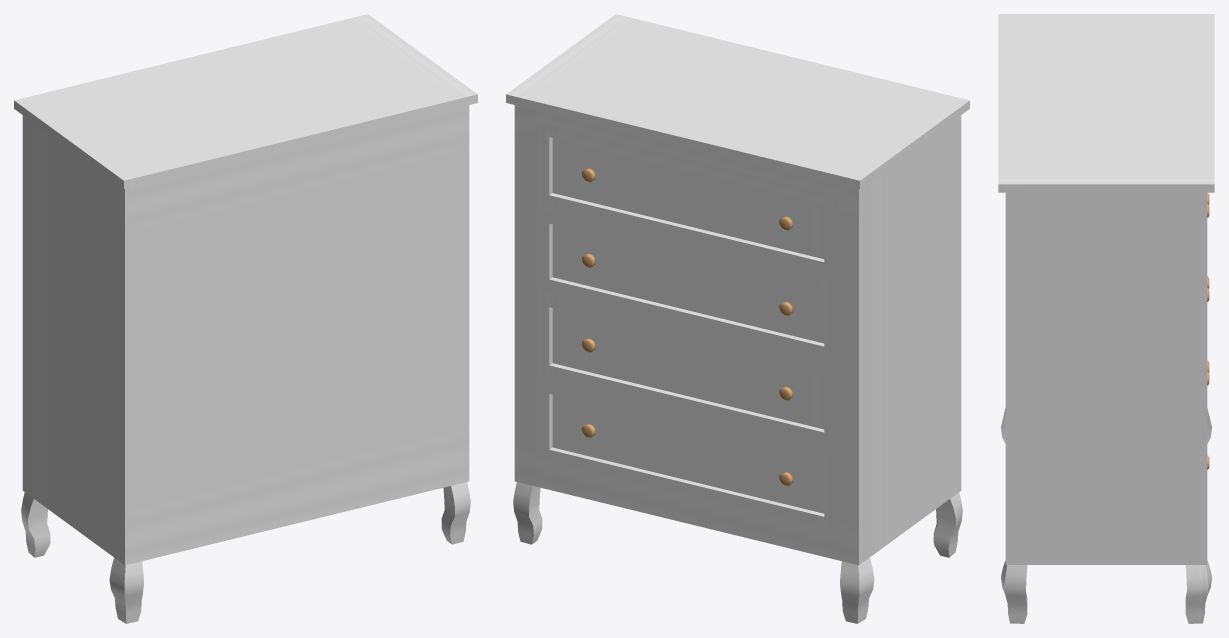
The model's file is Drawer34.glb.
The picture shows the model from 3 angles, left to right: view 1: azimuth 30°, elevation 25°; view 2: azimuth 150°, elevation 25°; view 3: azimuth 270°, elevation 25°; orthographic projection.
Visible parts, largest first — view 1: Drawer34_Body; view 2: Drawer34_Body, Drawer34_1, Drawer34_3, Drawer34_4, Drawer34_2; view 3: Drawer34_Body.
Boxes of the visible parts, x1,y1,x2,y2 form: Drawer34_Body: (14,14,477,623); Drawer34_Body: (506,14,969,623); Drawer34_1: (538,123,835,275); Drawer34_3: (538,293,835,446); Drawer34_4: (538,380,835,530); Drawer34_2: (538,210,835,360); Drawer34_Body: (998,14,1214,623).
Bounding box in the file's own units: 2.21 × 2.68 × 1.19.
Materials: 1 (1 with a texture image).
